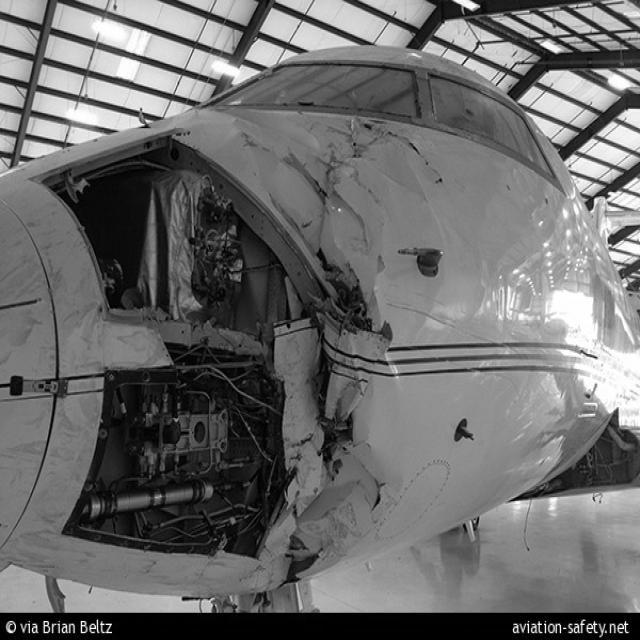crack: (362, 124, 447, 187), (352, 451, 394, 515)
